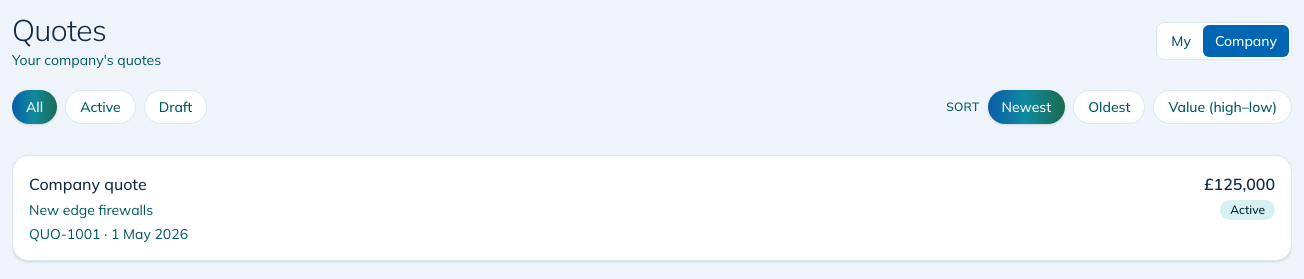
QuotesPage › switches to the My tier and refetches from the me scope
Check: the text "Company quote" is shown, box top-left (29, 174), bottom-right (147, 194)
Click the tab "My".
click(1181, 41)  # box top-left (1159, 25), bottom-right (1203, 57)
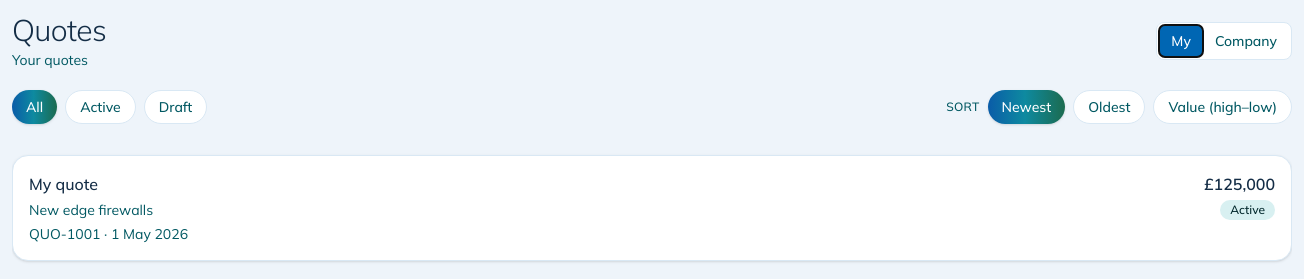
Check: the text "My quote" is shown, box top-left (29, 174), bottom-right (98, 194)
Check: the text "Your quotes" is shown, box top-left (12, 51), bottom-right (88, 69)
